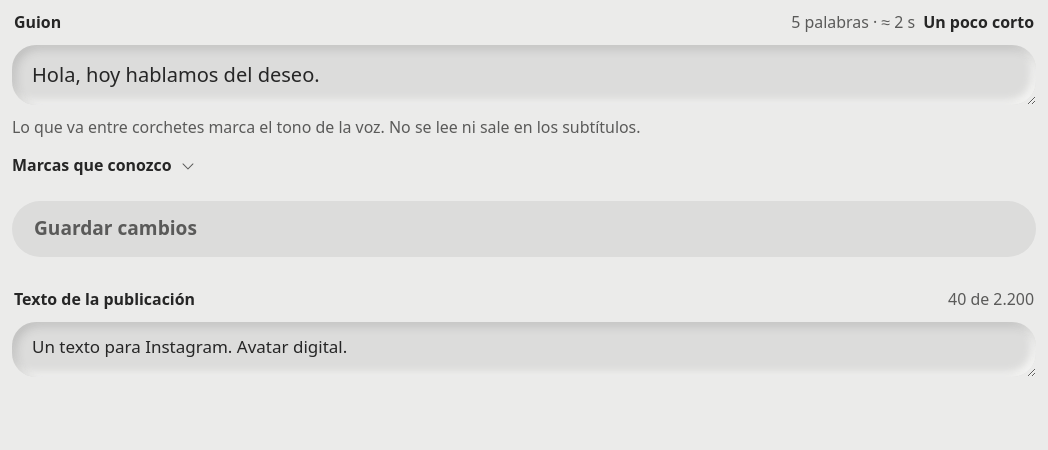
it: EditorDeGuion › shows the es-CL error in an alert when saving fails
The image size is (1048, 450).
Step 1. Replace the text in the text box labelled "Guion" with "Hola." → [524, 75], box [12,45,1036,105]
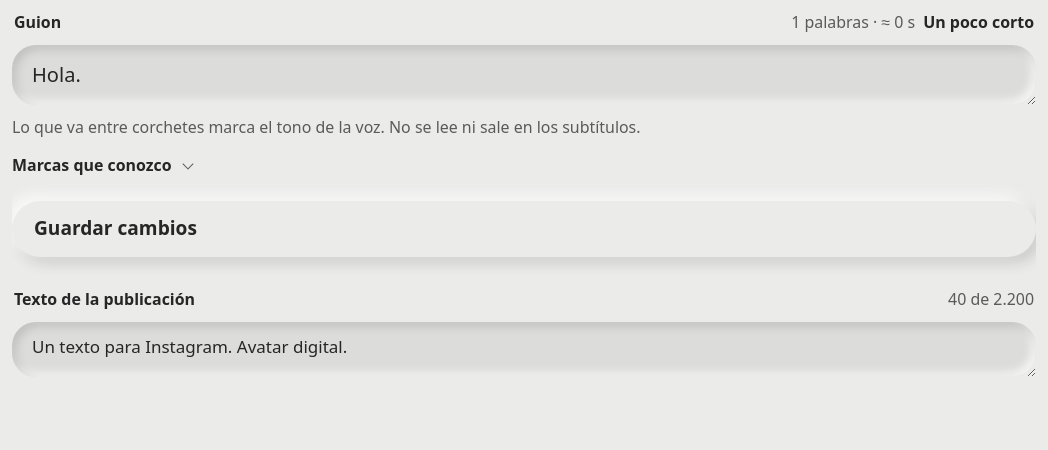
Step 2. Click the button "Guardar cambios" → [115, 228], box [12,201,1036,257]
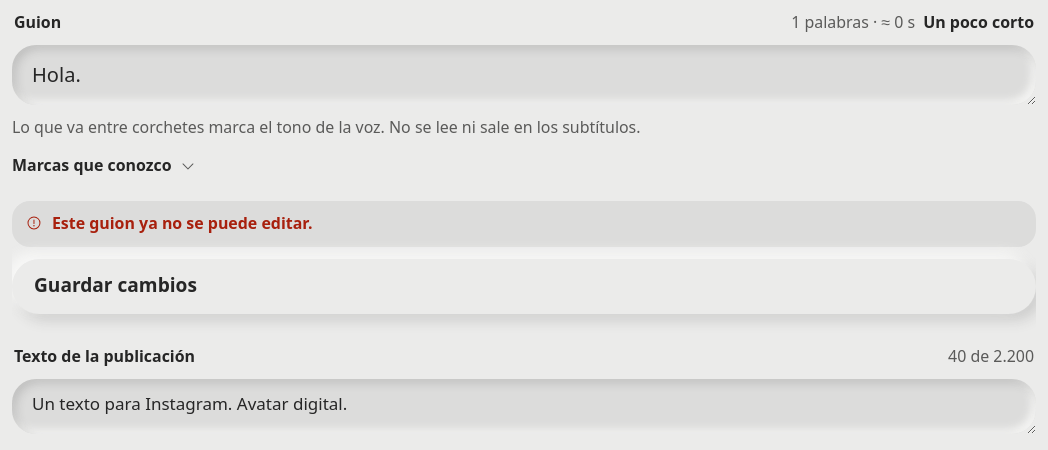
Check: the message reads "Este guion ya no se puede editar.", box [52,212,312,234]
